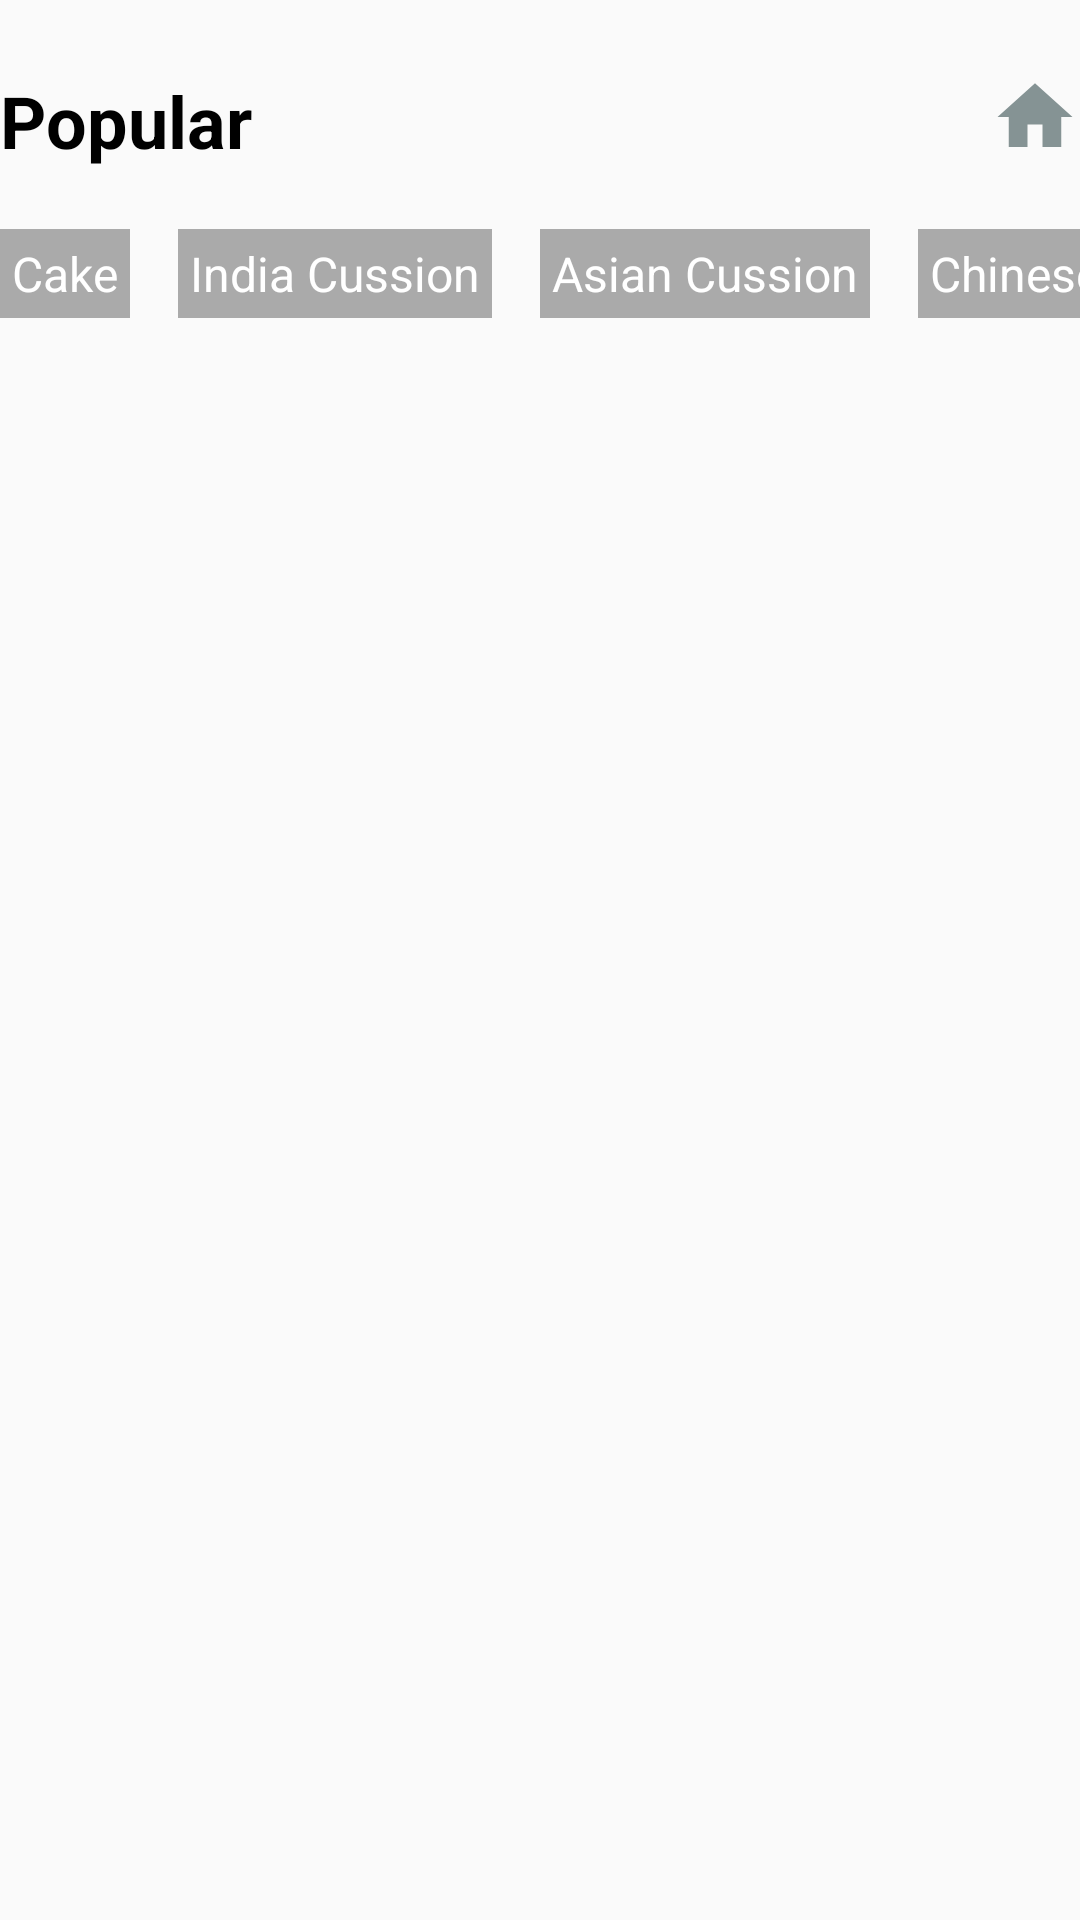

Icon click points for this 1080×1920 phone screenshot, format (x,y):
home: (1035,115)
